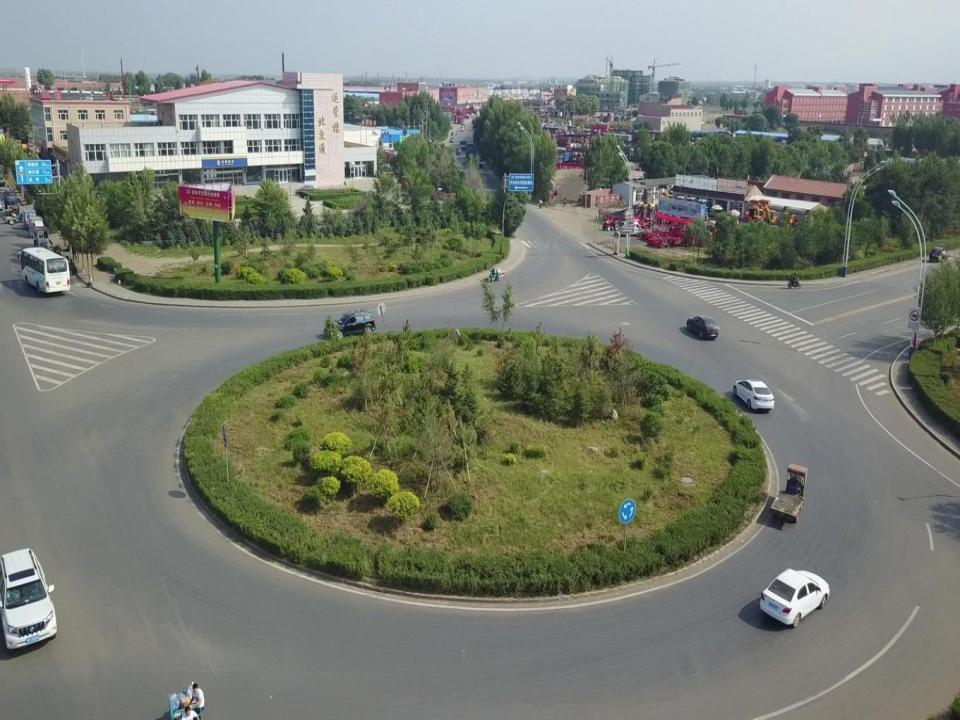bus: (17, 246, 71, 294)
car: (0, 547, 58, 651), (760, 568, 830, 628), (327, 308, 376, 340), (733, 378, 775, 412), (686, 315, 720, 341), (294, 183, 319, 195), (2, 190, 17, 204), (476, 158, 483, 169), (0, 198, 5, 210), (0, 176, 6, 185), (456, 147, 462, 154), (450, 138, 454, 142)
truck: (769, 463, 808, 524), (931, 246, 950, 262), (466, 142, 476, 162), (548, 185, 558, 195), (460, 140, 467, 151), (460, 122, 465, 132)
van: (619, 221, 643, 237)
